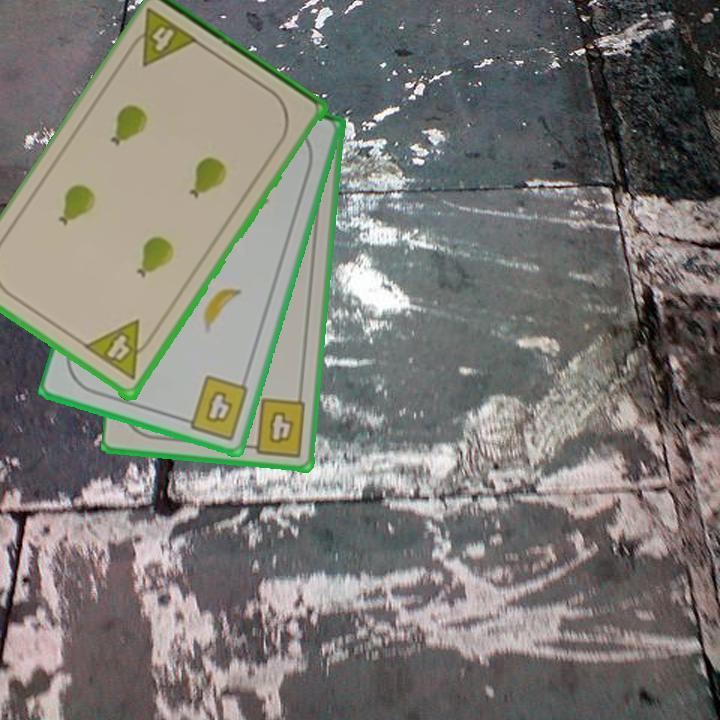4b: (176, 372, 252, 443), (242, 395, 309, 460)
4p: (122, 5, 203, 71), (82, 317, 159, 384)
